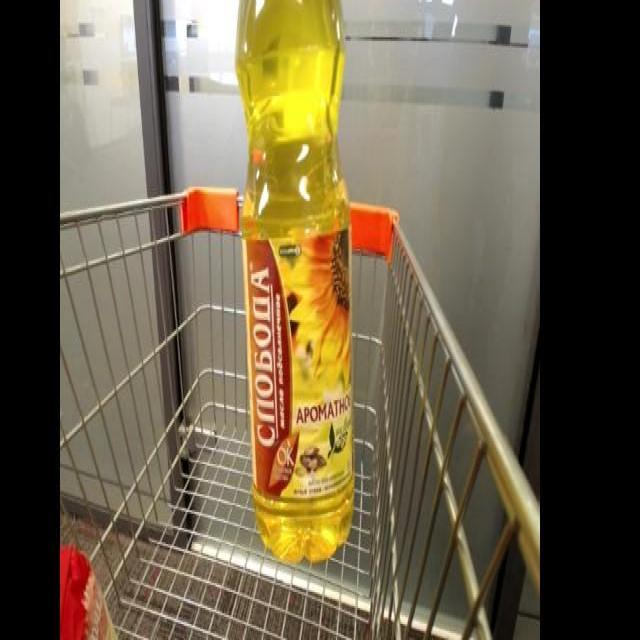Oil: (232, 1, 362, 570)
